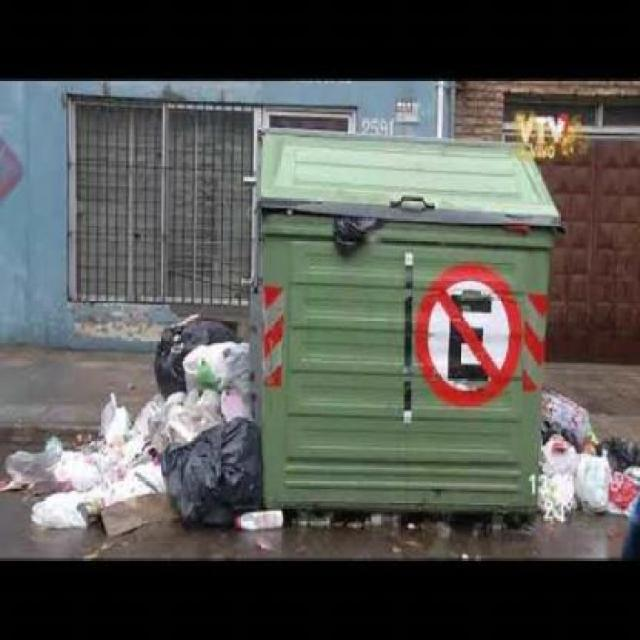garbage: (6, 306, 300, 538), (531, 385, 640, 529), (308, 506, 502, 543), (326, 208, 393, 262)
